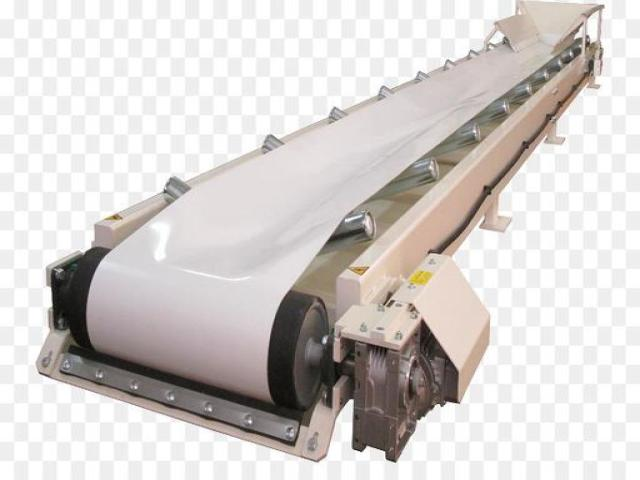conveyor: (32, 0, 608, 464)
